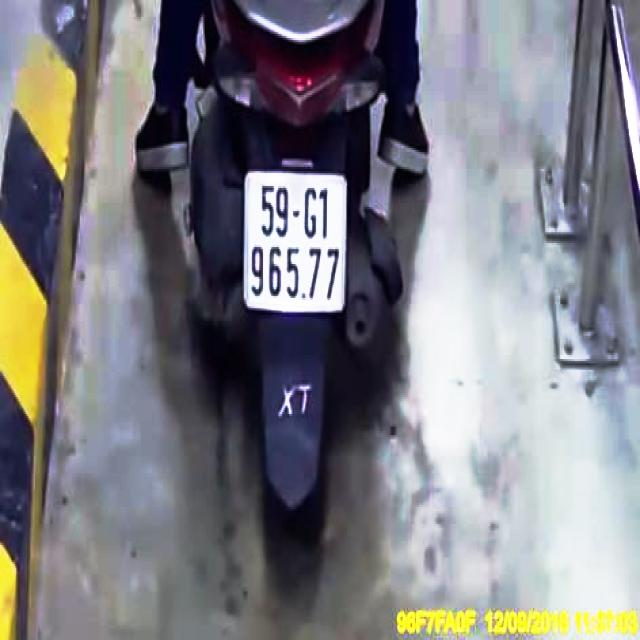license_plate: (247, 169, 348, 310)
